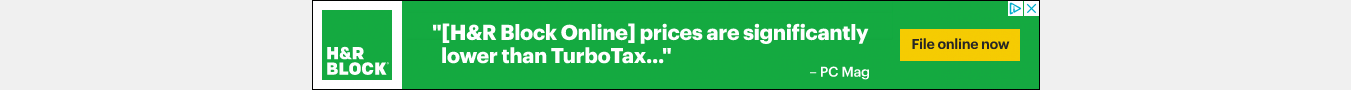fake_button: (885, 22, 1024, 71)
